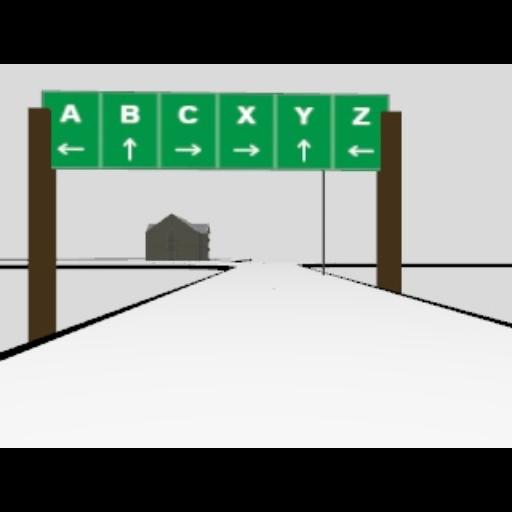A: (59, 102, 81, 122)
B: (120, 104, 140, 124)
C: (178, 104, 198, 124)
Left: (56, 142, 84, 156), (346, 144, 374, 156)
Right: (172, 142, 202, 156), (232, 144, 260, 156)
Straight: (122, 136, 136, 160), (296, 138, 310, 160)
X: (236, 104, 256, 124)
Y: (292, 104, 314, 124)
Z: (350, 106, 372, 124)
